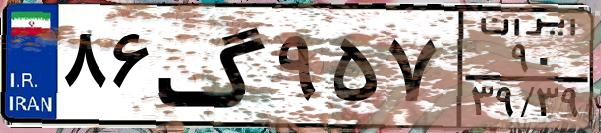0: (537, 27, 568, 80)
3: (470, 70, 495, 125), (535, 70, 560, 125)
5: (330, 28, 385, 110)
6: (110, 28, 156, 98)
7: (385, 28, 445, 110)
8: (57, 26, 110, 100)
9: (270, 28, 330, 110), (560, 70, 590, 125), (508, 27, 537, 80), (495, 70, 520, 125)
گ: (156, 12, 270, 120)
